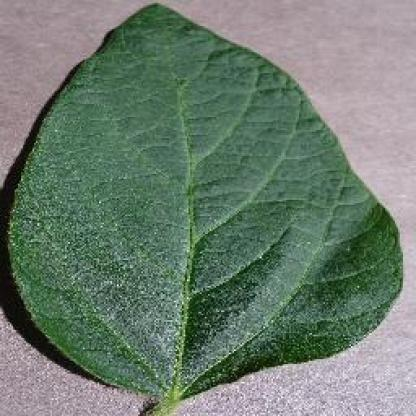soy: (3, 3, 408, 416)
